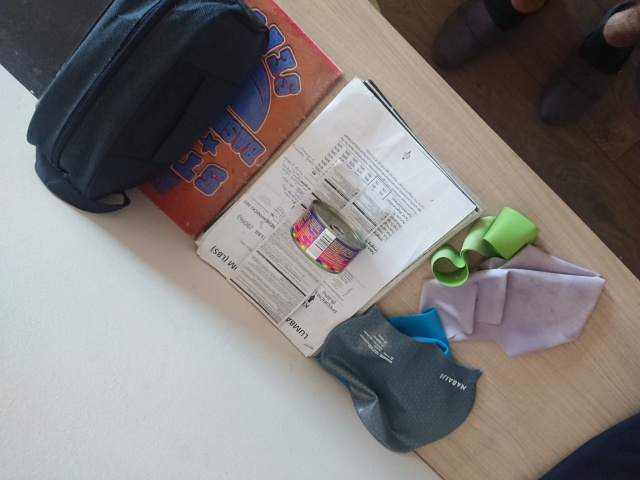Giana Tuna Salad Mexico 185g: (289, 197, 366, 277)
